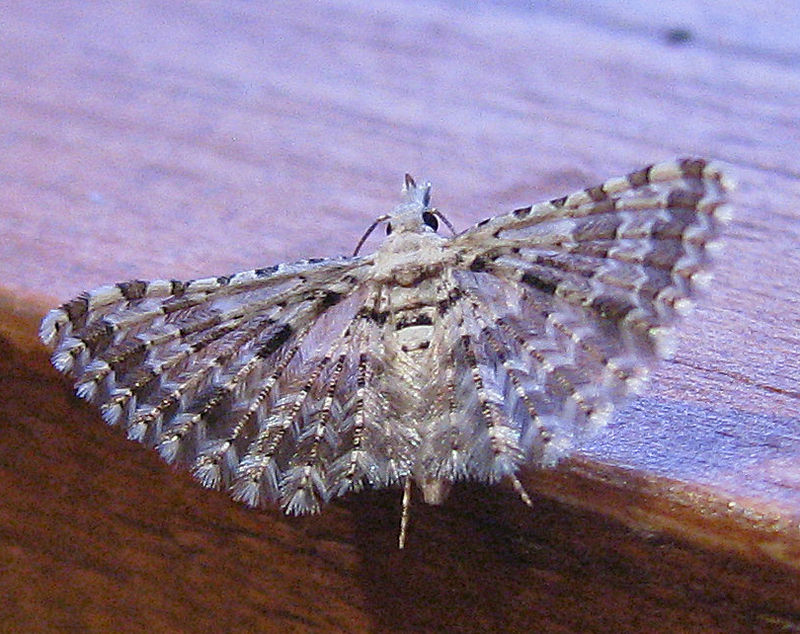Alucitidae: (37, 134, 732, 549)
moth: (35, 132, 730, 547)
